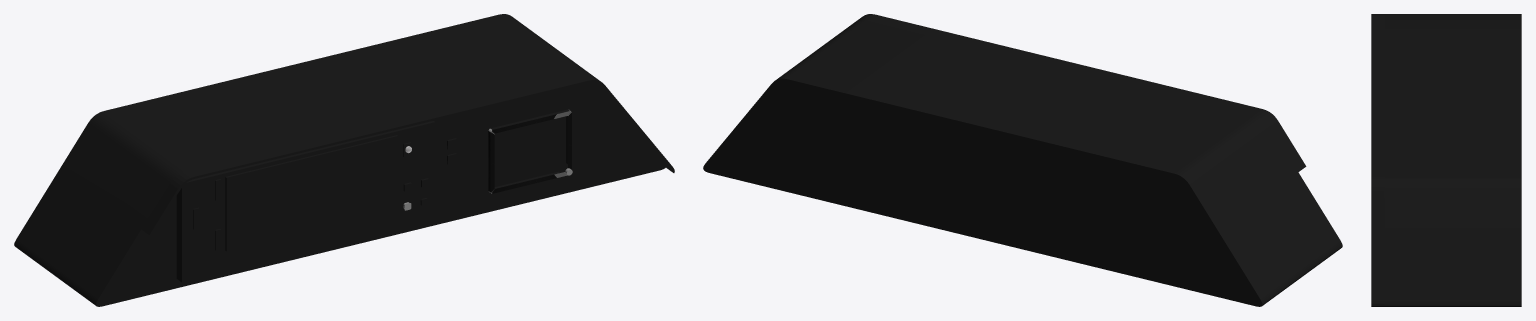
File: 조종석1(05-26).FBX
3 views of the same model, side by side, from view 1: azimuth 30°, elevation 25°; view 2: azimuth 150°, elevation 25°; view 3: azimuth 270°, elevation 25° (orthographic). The views are drawn at different scales.
Visible parts, largest first — view 1: Box001; view 2: Box001; view 3: Box001.
Part boxes in pixels (x1,y1,x2,y2): Box001: [14, 14, 674, 306]; Box001: [703, 14, 1342, 306]; Box001: [1371, 14, 1521, 306].
Size of the model in its own units: 311 by 60 by 85.06.
